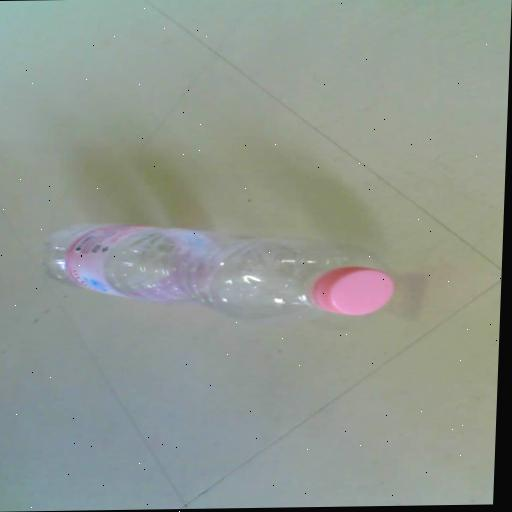bottle: (41, 217, 397, 322)
